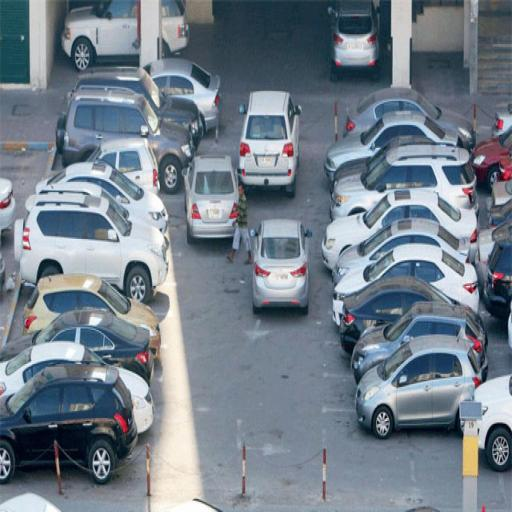Illegal-parking: (249, 207, 319, 329), (241, 68, 304, 195), (187, 157, 242, 260)
